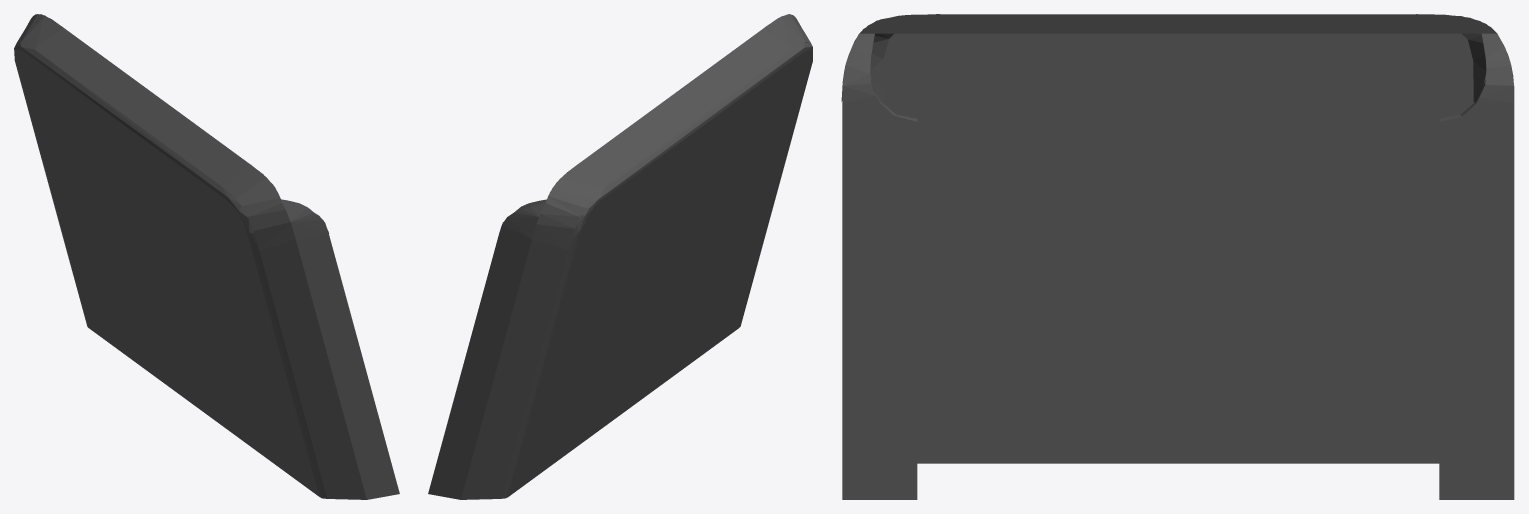
Rendered from tablet_base.dae.
3 views of the same model, side by side, from view 1: azimuth 30°, elevation 25°; view 2: azimuth 150°, elevation 25°; view 3: azimuth 270°, elevation 25° (orthographic). The views are drawn at different scales.
Visible parts, largest first — view 1: Tablet_Base; view 2: Tablet_Base; view 3: Tablet_Base.
Part boxes in pixels (x1,y1,x2,y2): Tablet_Base: (14,14,399,499); Tablet_Base: (428,14,812,499); Tablet_Base: (841,14,1514,499).
Bounding box in the file's own units: 0.0619 × 0.1999 × 0.1368.
